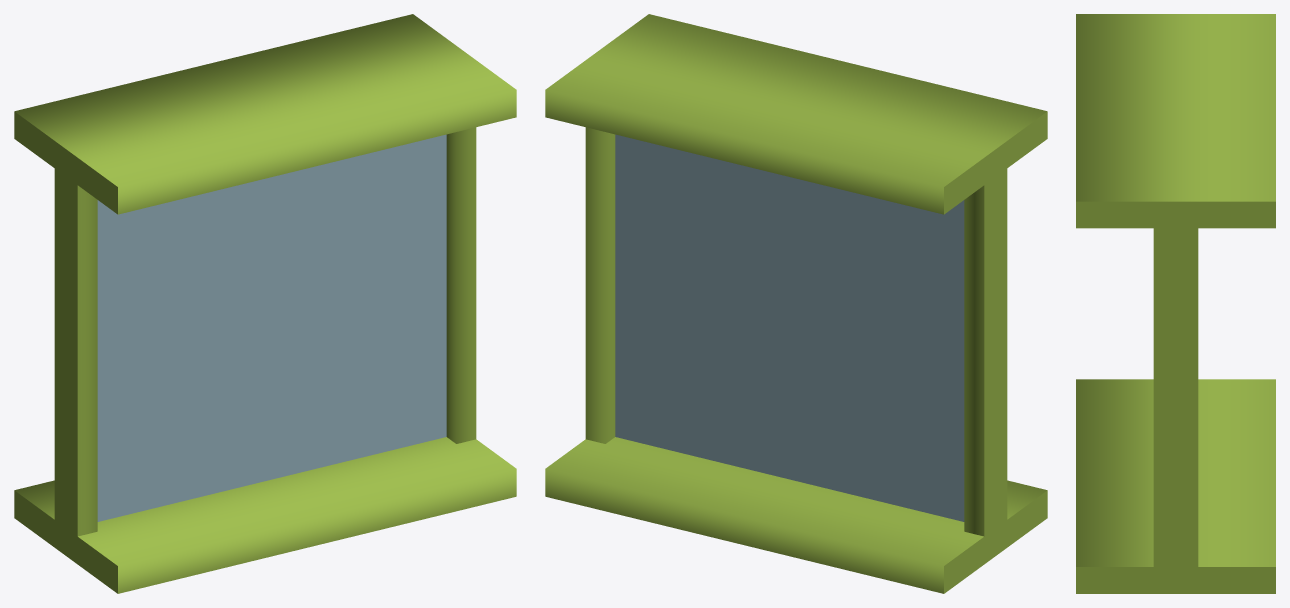
The model's file is G_Window_007_S1.FBX.
3 views of the same model, side by side, from view 1: azimuth 30°, elevation 25°; view 2: azimuth 150°, elevation 25°; view 3: azimuth 270°, elevation 25° (orthographic). The views are drawn at different scales.
Visible parts, largest first — view 1: S_M_Ornament_Window007_2x1x2_LOD; view 2: S_M_Ornament_Window007_2x1x2_LOD; view 3: S_M_Ornament_Window007_2x1x2_LOD.
Boxes of the visible parts, box(x1,y1,x2,y2) form: S_M_Ornament_Window007_2x1x2_LOD: box(14, 14, 516, 593); S_M_Ornament_Window007_2x1x2_LOD: box(545, 14, 1047, 593); S_M_Ornament_Window007_2x1x2_LOD: box(1076, 14, 1275, 593).
Bounding box in the file's own units: 200 × 195 × 90.
